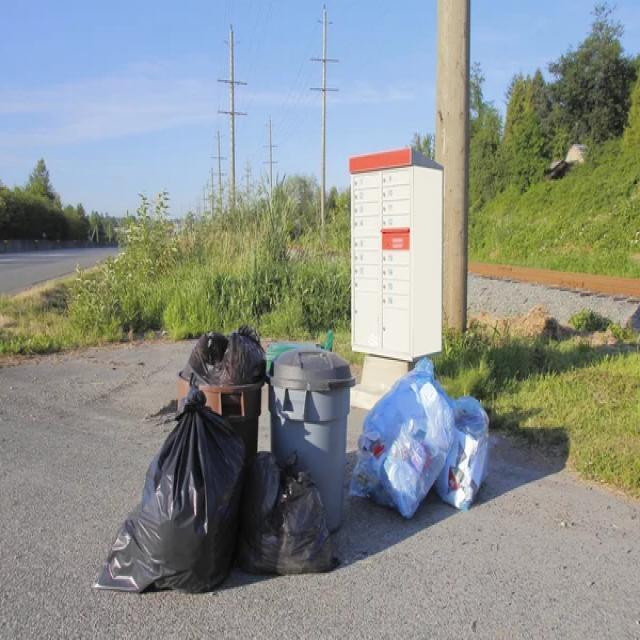garbage: (130, 412, 364, 634), (366, 351, 569, 584)
